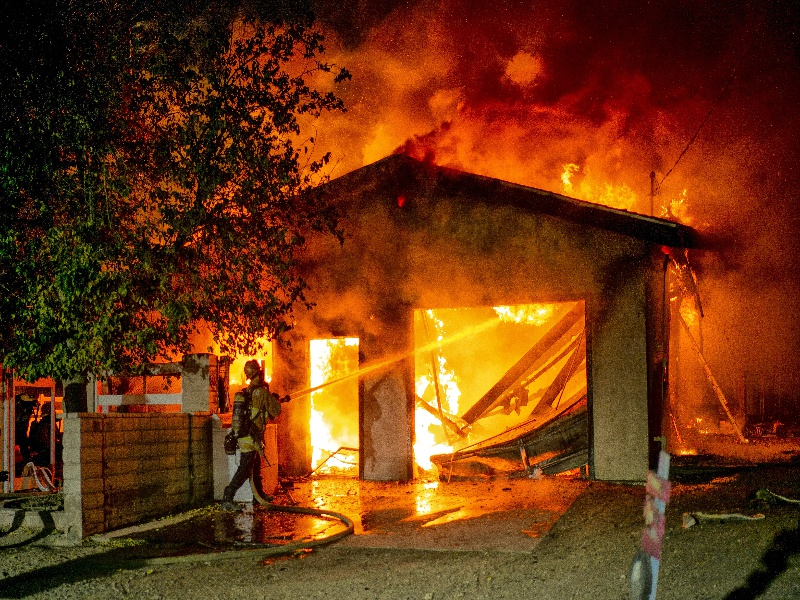fire: (305, 338, 342, 486), (413, 392, 454, 465)
